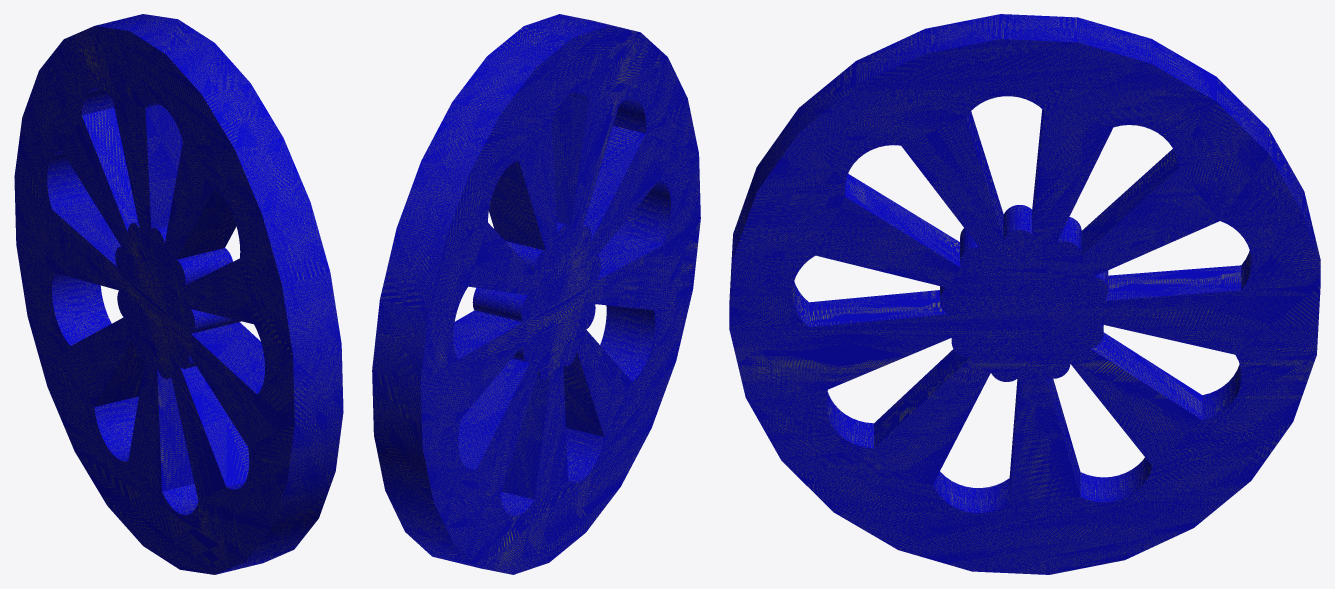
Rendered from original-2.obj.
The picture shows the model from 3 angles, left to right: view 1: azimuth 30°, elevation 25°; view 2: azimuth 150°, elevation 25°; view 3: azimuth 270°, elevation 25°; orthographic projection. The views are drawn at different scales.
Parts seen in each view (by area): view 1: mesh2/mesh2-geometry#mesh2-geometry; view 2: mesh2/mesh2-geometry#mesh2-geometry; view 3: mesh2/mesh2-geometry#mesh2-geometry.
Boxes of the visible parts, bbox=[...] form: mesh2/mesh2-geometry#mesh2-geometry: bbox=[14, 14, 343, 574]; mesh2/mesh2-geometry#mesh2-geometry: bbox=[372, 14, 700, 574]; mesh2/mesh2-geometry#mesh2-geometry: bbox=[729, 14, 1320, 574].
Bounding box in the file's own units: 0.0439 × 0.4387 × 0.4387.
